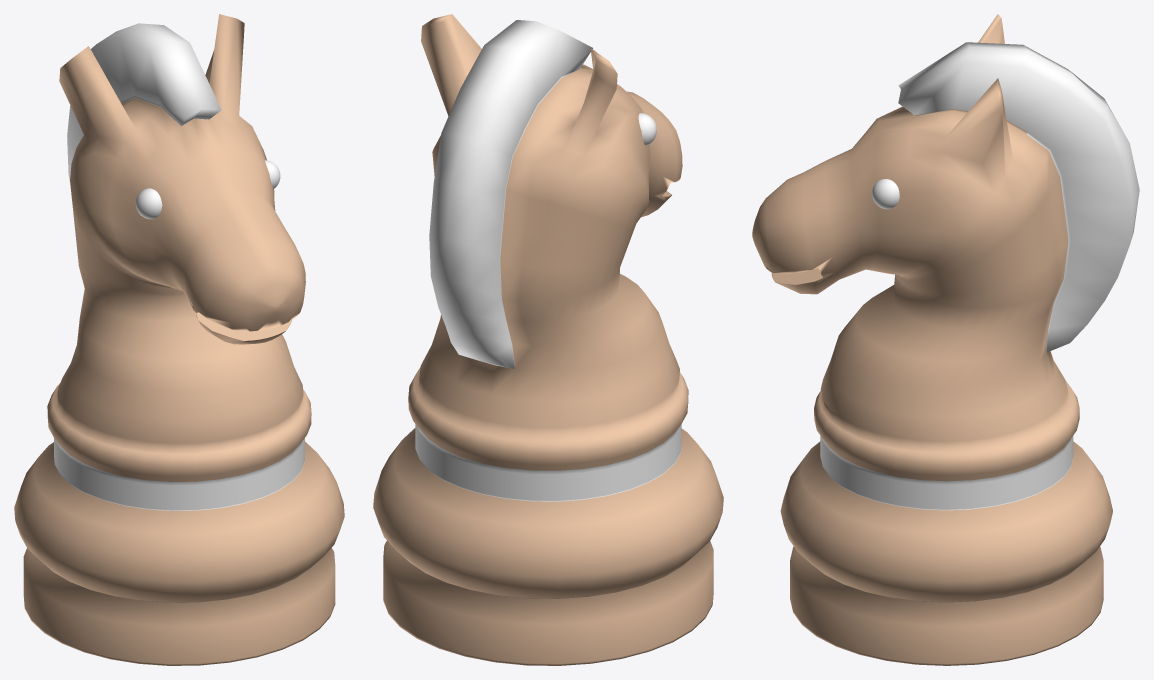
The model's file is horse_white.glb.
The picture shows the model from 3 angles, left to right: view 1: azimuth 30°, elevation 25°; view 2: azimuth 150°, elevation 25°; view 3: azimuth 270°, elevation 25°; orthographic projection. The views are drawn at different scales.
Visible parts, largest first — view 1: Caballo.001; view 2: Caballo.001; view 3: Caballo.001.
Boxes of the visible parts, x1=… form: Caballo.001: x1=14, y1=14, x2=344, y2=665; Caballo.001: x1=373, y1=14, x2=723, y2=665; Caballo.001: x1=752, y1=14, x2=1139, y2=665.
Size of the model in its own units: 0.2867 by 0.5266 by 0.334.
